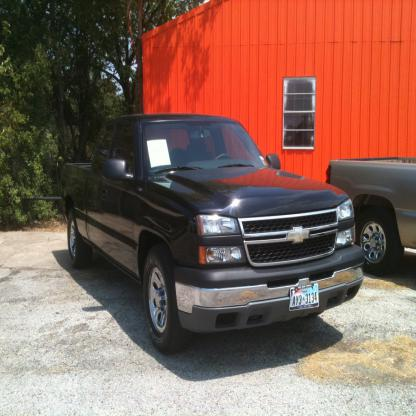Truck: (61, 114, 365, 354), (324, 157, 416, 278)
